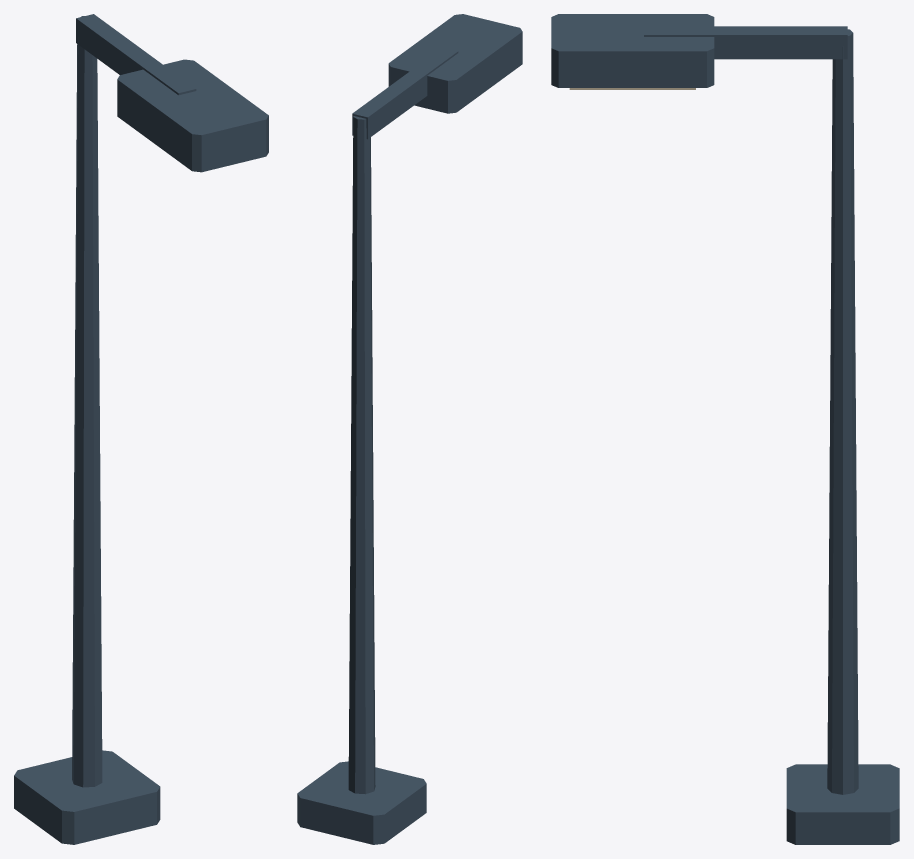
File: street-lamp.glb
3 renders of one model, left to right at view 1: azimuth 30°, elevation 25°; view 2: azimuth 150°, elevation 25°; view 3: azimuth 270°, elevation 25°, orthographic. The views are drawn at different scales.
Visible parts, largest first — view 1: asset_root; view 2: asset_root; view 3: asset_root.
Boxes of the visible parts, x1=… form: asset_root: x1=14, y1=14, x2=268, y2=844; asset_root: x1=297, y1=14, x2=522, y2=844; asset_root: x1=551, y1=14, x2=899, y2=844.
Bounding box in the file's own units: 0.5 × 3.86 × 1.54.
